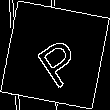P_NW: (25, 23, 85, 87)
